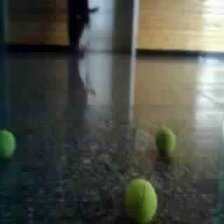tennis: (122, 180, 159, 222), (154, 128, 177, 159), (1, 129, 16, 164)
